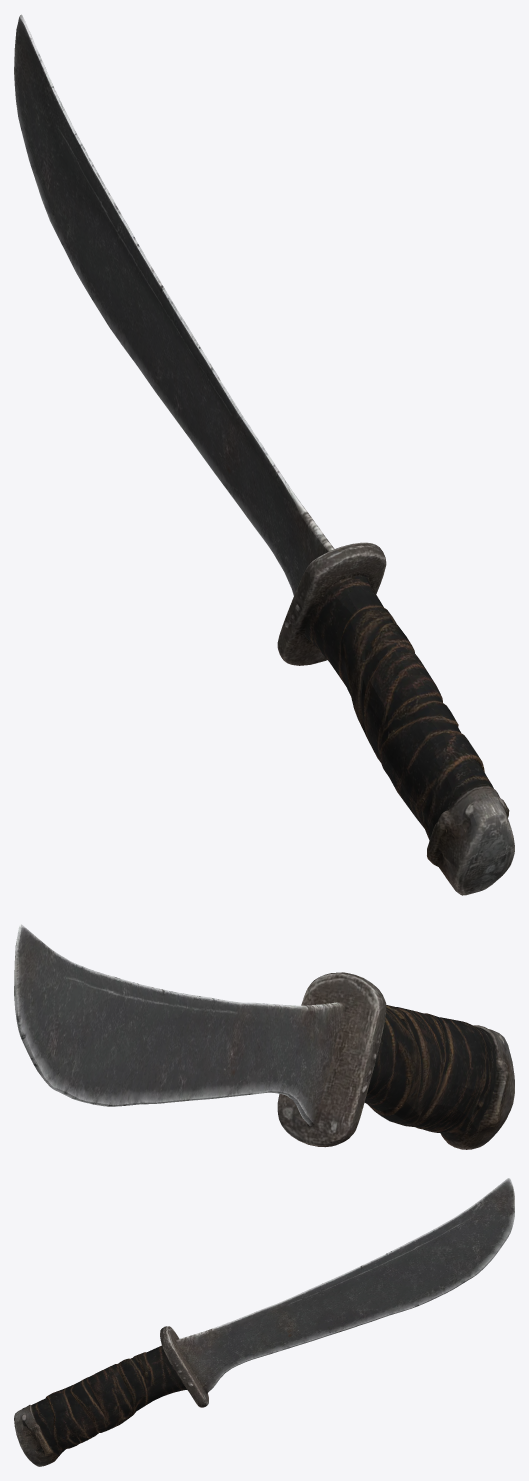
Rendered from machete.glb.
3 views of the same model, one above another, from view 1: azimuth 30°, elevation 25°; view 2: azimuth 150°, elevation 25°; view 3: azimuth 270°, elevation 25° (orthographic). The views are drawn at different scales.
Visible parts, largest first — view 1: world; view 2: world; view 3: world.
Part boxes in pixels (bbox=[...]): world: bbox=[14, 14, 514, 895]; world: bbox=[14, 924, 514, 1149]; world: bbox=[14, 1178, 514, 1466].
Bounding box in the file's own units: 0.0619 × 0.4116 × 0.65.
Materials: 1 (1 with a texture image).
